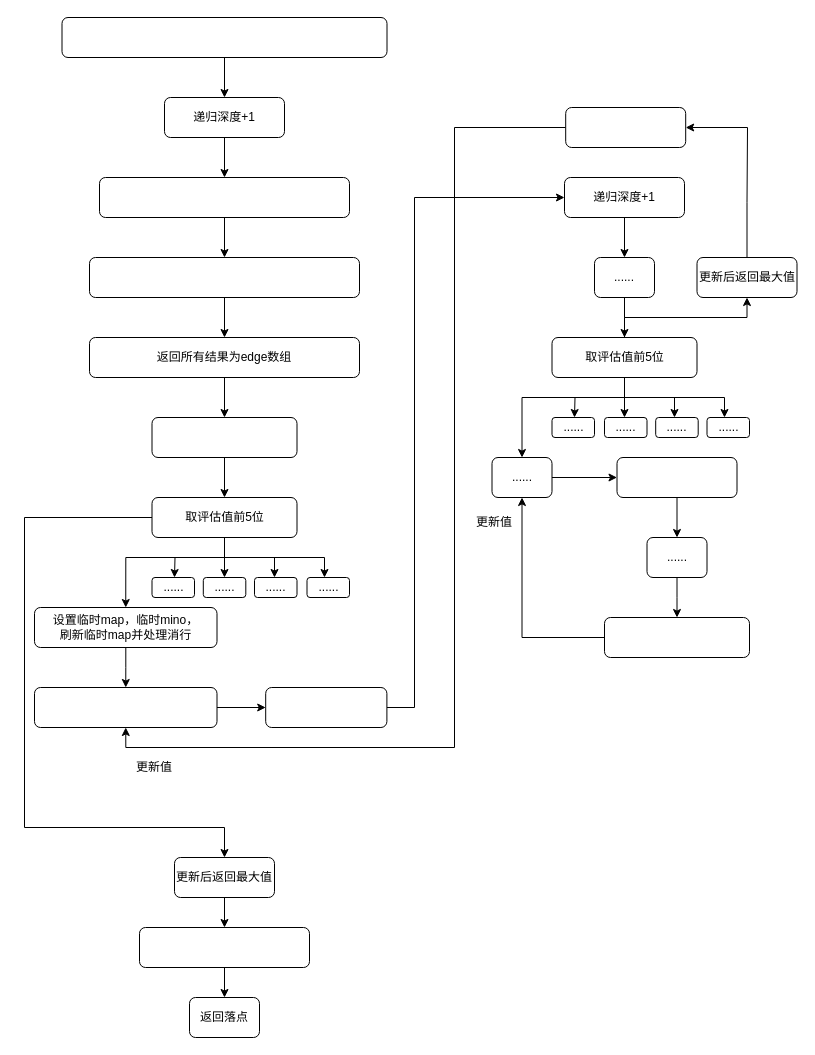
The diagram is 815 pixels wide and 1055 high, and some of its shapes have lost their labels. The shapes that lost their labels are listed below. From the top down, each one's centre as x and y in pixels, then its label:
At (x=224, y=37): "AI_main(当前方side,静止map,待定mino)".
At (x=625, y=127): "递归深度-1".
At (x=224, y=197): "搜索当前mino全部旋转方向直落可能落点".
At (x=224, y=277): "进一步搜索在直落点可能的左右移动与SRS旋转".
At (x=224, y=437): "评估edge中所有位置".
At (x=676, y=477): "递归深度+1, 且到达最大深度".
At (x=677, y=637): "取评估值前最大值".
At (x=125, y=707): "将更新后的map交给AI_main递归".
At (x=326, y=707): "AI_main(......)".
At (x=224, y=947): "获取最大值在edge中对应落点".
